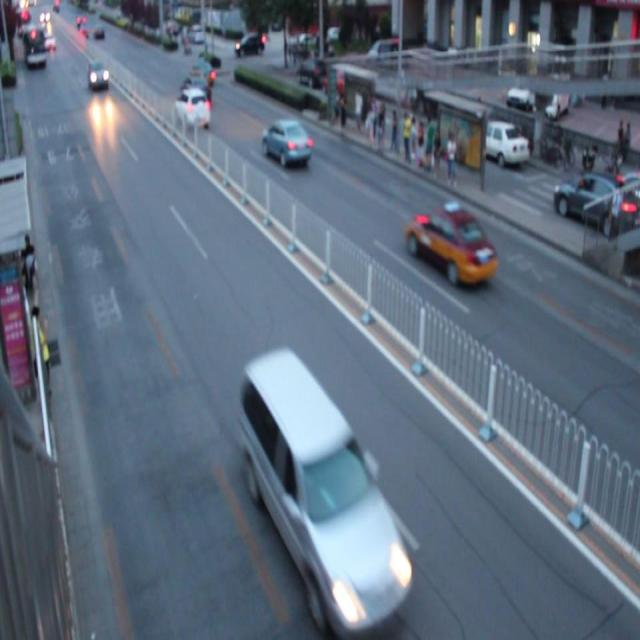car: (406, 204, 496, 288), (262, 117, 312, 167), (174, 88, 211, 132), (182, 72, 212, 109), (189, 58, 214, 85)
truck: (243, 350, 414, 606)
